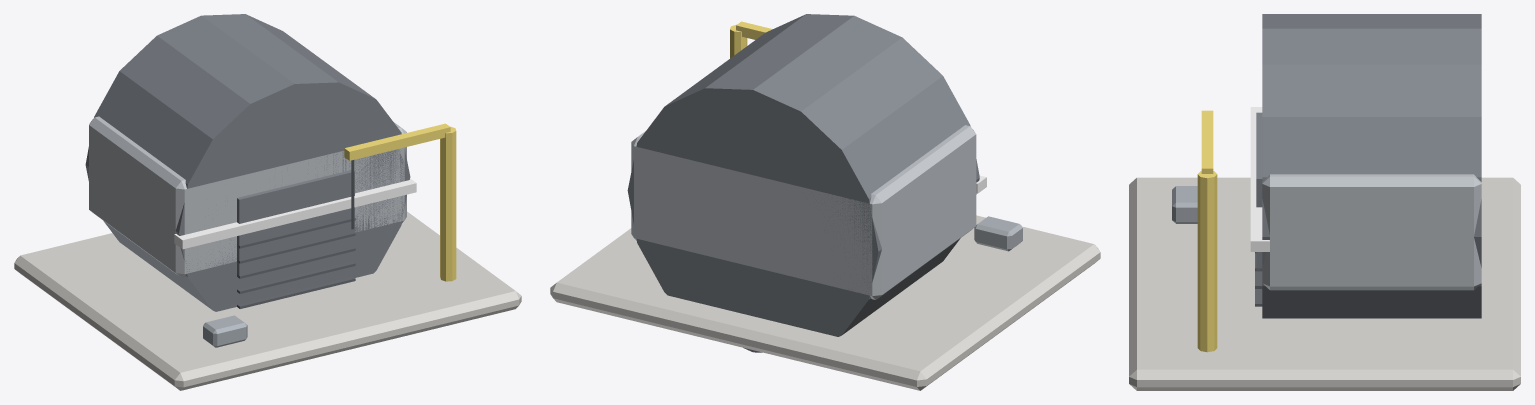
The model's file is workshop.glb.
3 views of the same model, side by side, from view 1: azimuth 30°, elevation 25°; view 2: azimuth 150°, elevation 25°; view 3: azimuth 270°, elevation 25° (orthographic). The views are drawn at different scales.
Visible parts, largest first — view 1: main; view 2: main; view 3: main.
Boxes of the visible parts, x1=… form: main: x1=14, y1=14, x2=521, y2=390; main: x1=550, y1=14, x2=1100, y2=390; main: x1=1129, y1=14, x2=1520, y2=390.
Bounding box in the file's own units: 1.2 × 0.8 × 1.
